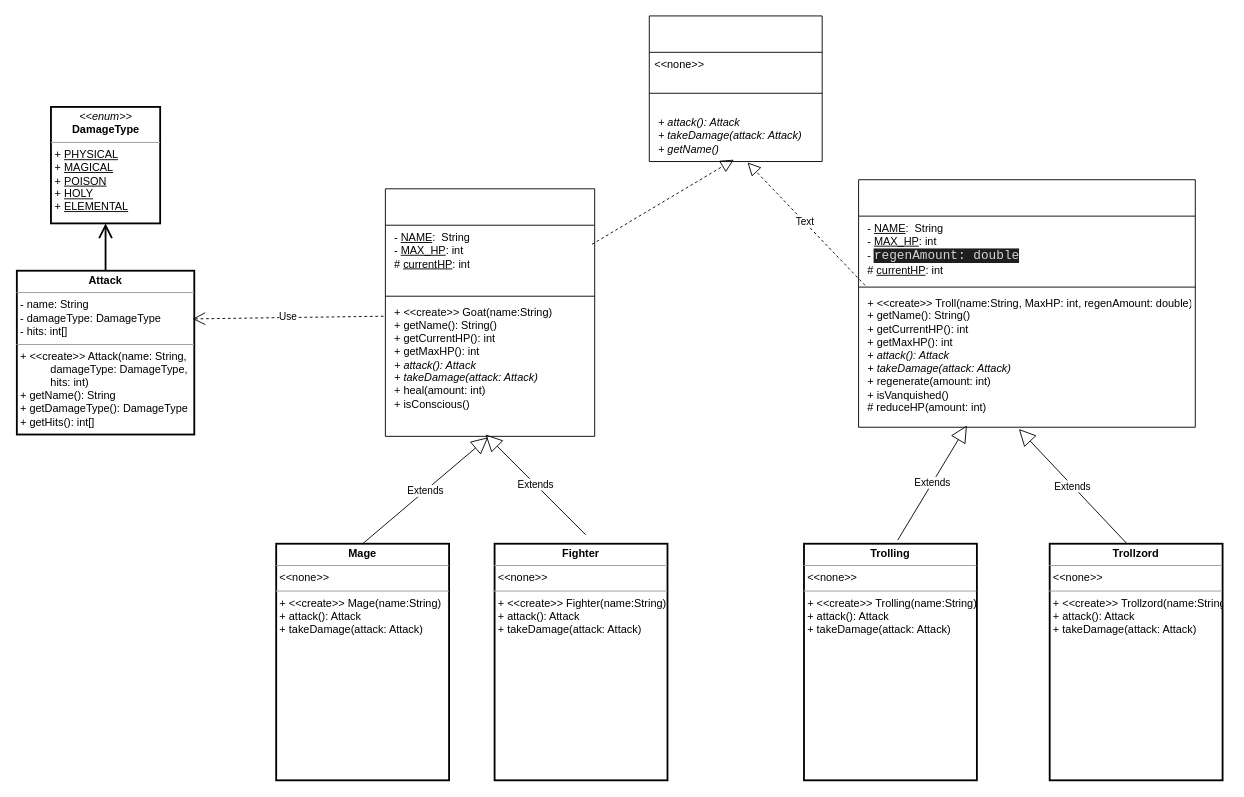
The diagram is 1244 pixels wide and 797 high, and some of its shapes have lost their labels. The shapes that lost their labels are listed below. From the top down, each one's box as (x1, y1, x2, y2) in pixels, then its label:
(648, 15, 822, 162): <<interface>> Combatant
(384, 188, 595, 436): <<abstract>> Goat
(858, 179, 1195, 427): <<abstract>> Troll
